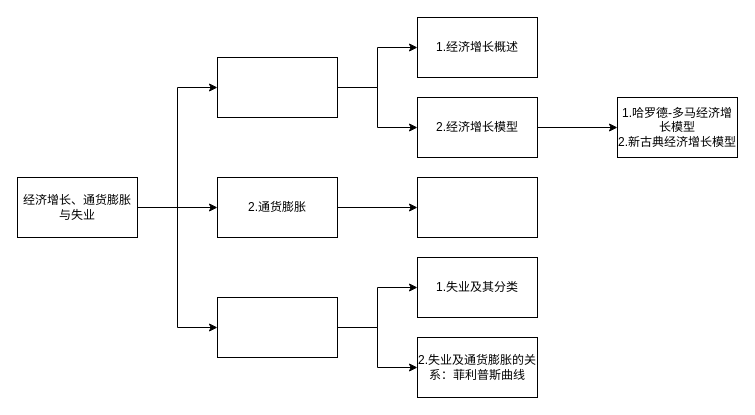
This 755x415 diagram has some shape labels left out. Each missing label, with the box of its shape:
1.经济增长: (216, 56, 338, 118)
1.通货膨胀 2.通货膨胀的原因 3.通货膨胀的效应: (416, 176, 538, 238)
3.失业: (216, 296, 338, 358)
